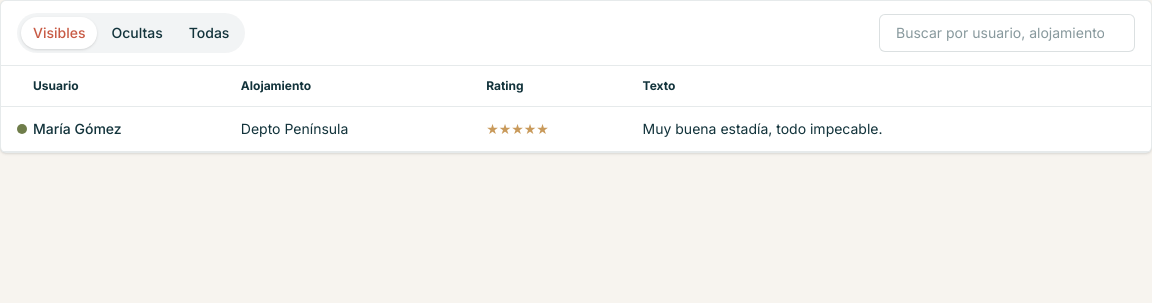
Test: ResenasTable — fila expandible › clickear una fila la expande y muestra el texto completo y acciones
Click the text "María Gómez".
click(77, 128)  # box [33, 106, 241, 152]
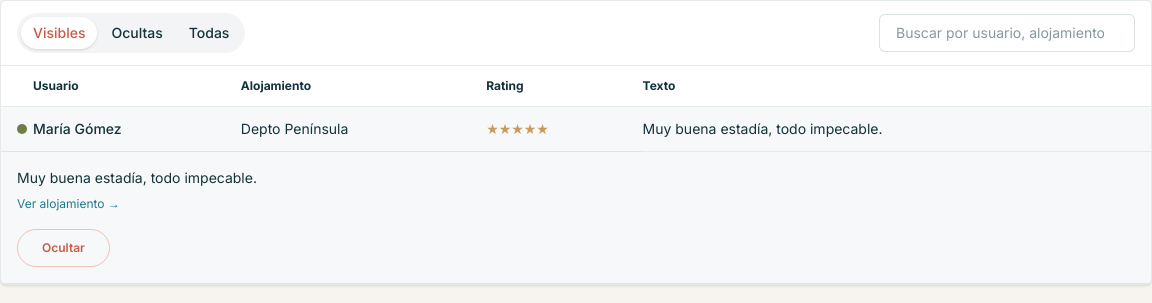
Expected: the text "Muy buena estadía, todo impecable." is shown, [643, 106, 1151, 152]
Expected: the button "Ocultar" is shown, [17, 229, 110, 267]
